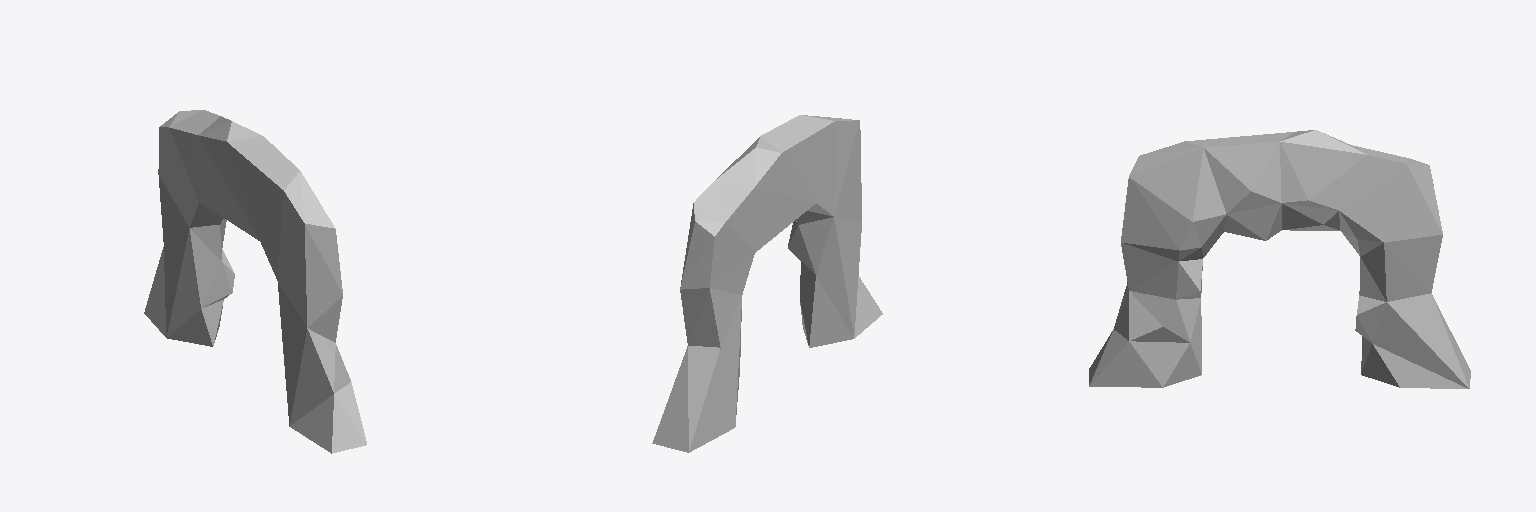
Rendered from Mesh_CavePack_DoorFrame_lod1.obj.
The picture shows the model from 3 angles: view 1: azimuth 30°, elevation 25°; view 2: azimuth 150°, elevation 25°; view 3: azimuth 270°, elevation 25°; orthographic projection.
Parts seen in each view (by area): view 1: Plane; view 2: Plane; view 3: Plane.
Boxes of the visible parts, box(x1,y1,x2,y2) form: Plane: box(144, 110, 366, 453); Plane: box(652, 115, 882, 452); Plane: box(1089, 130, 1470, 388).
Bounding box in the file's own units: 0.7974 × 3.29 × 4.62.